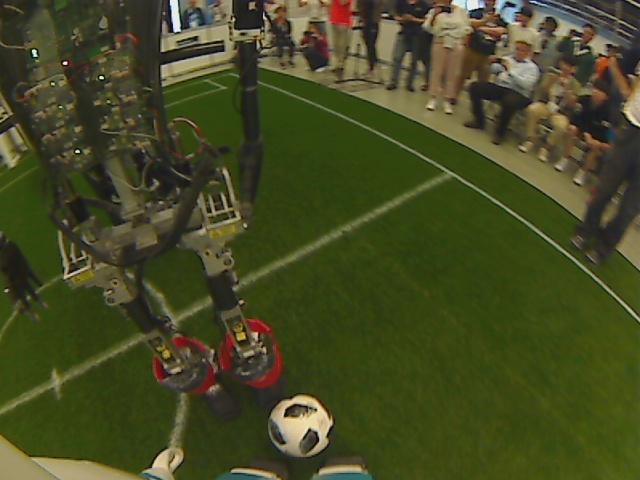ball: (264, 392, 337, 460)
robot: (210, 366, 279, 421)
